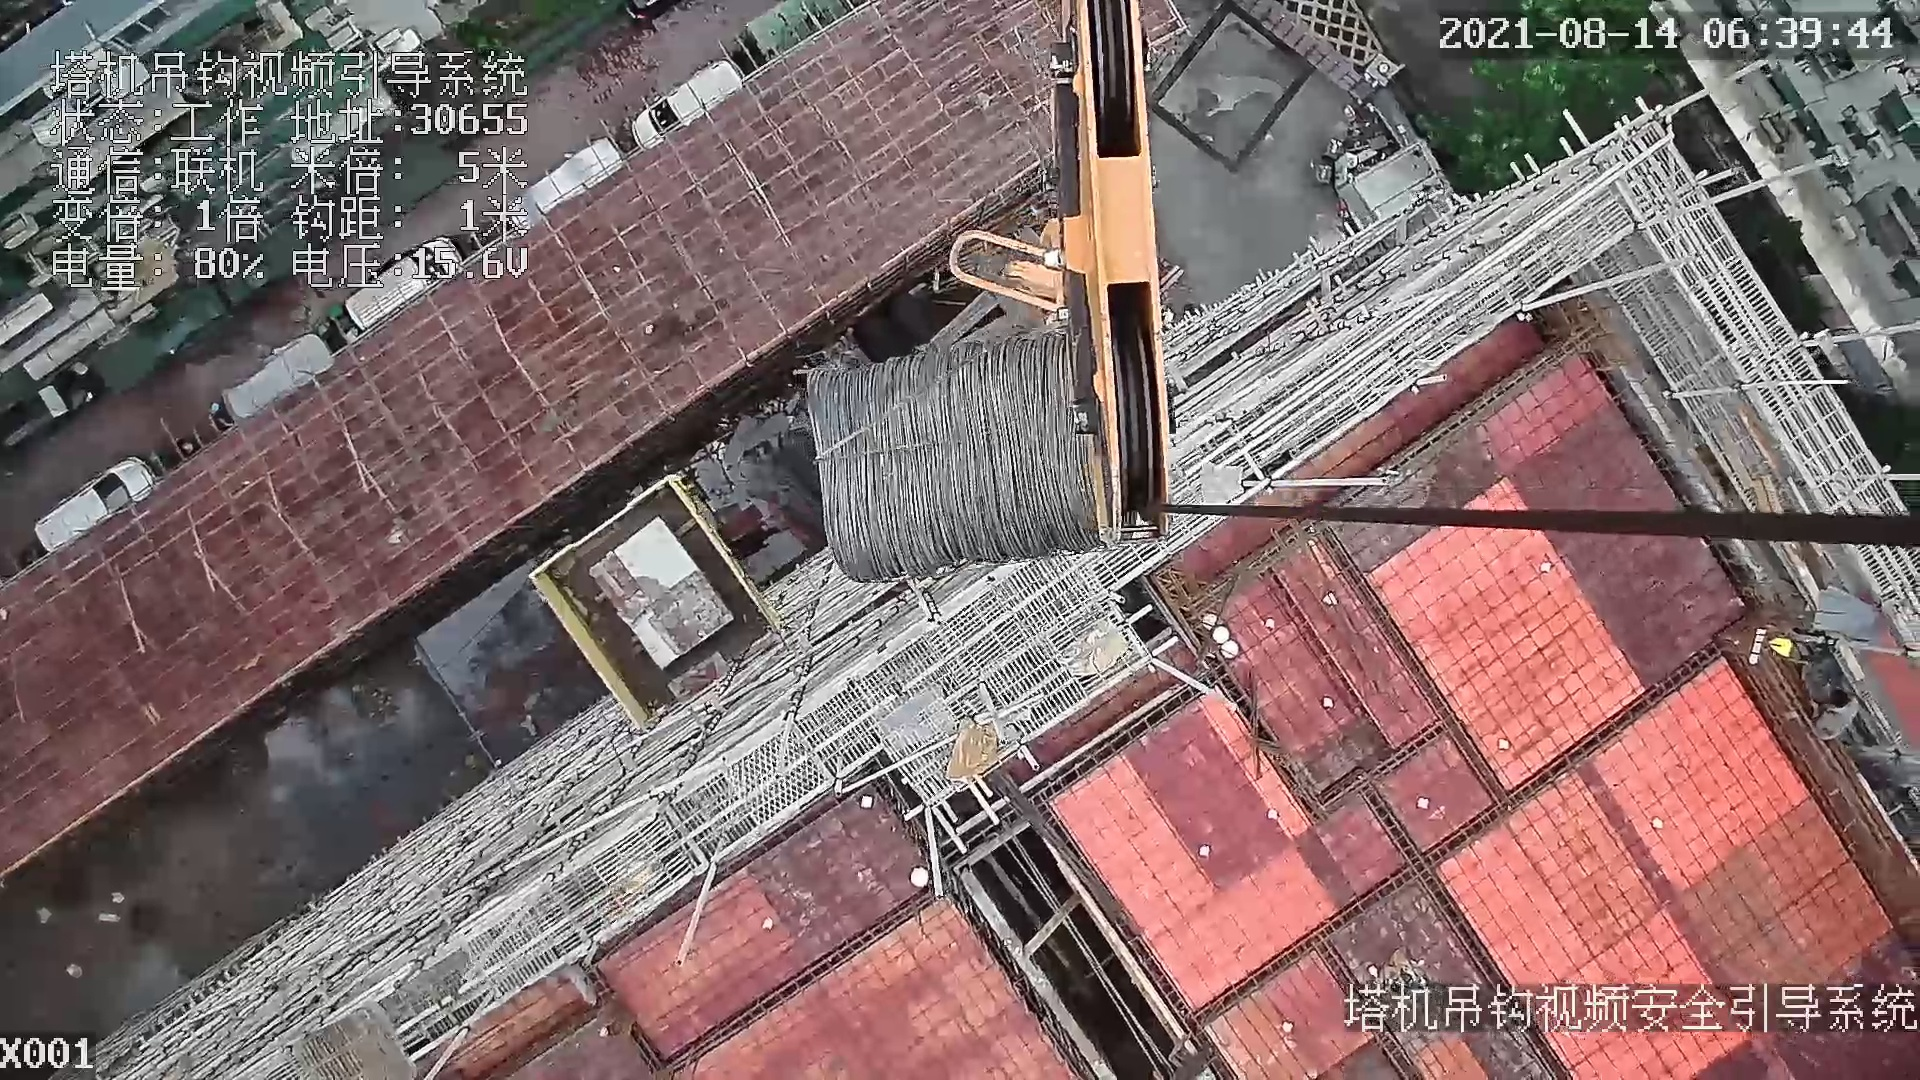hook: (940, 1, 1174, 535)
